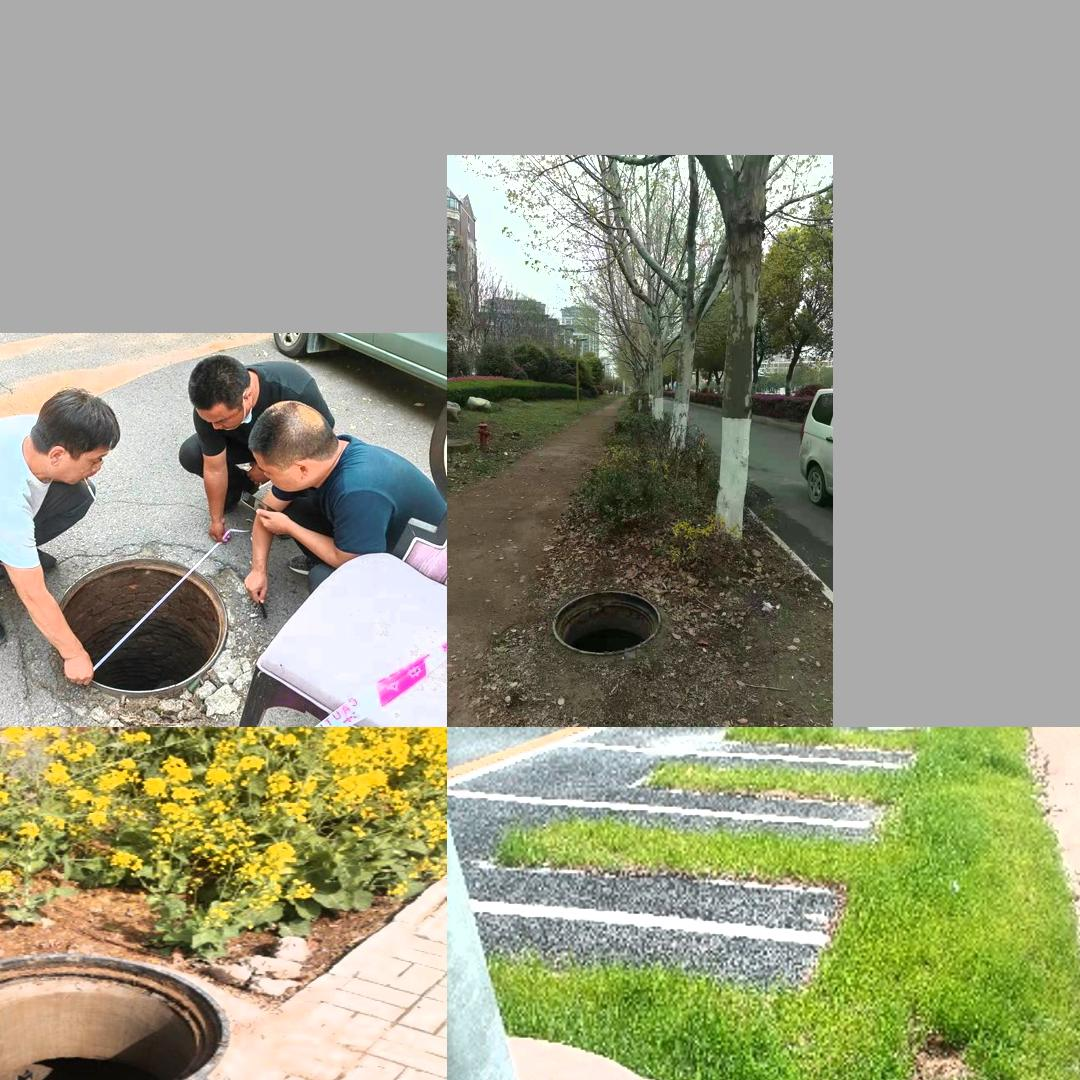lose: (0, 935, 255, 1080), (48, 552, 230, 697), (551, 589, 662, 656)
